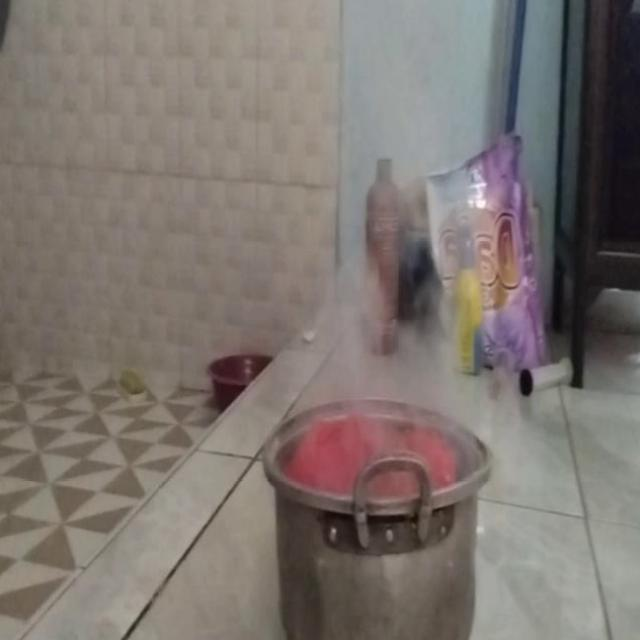fire: (326, 206, 483, 422)
